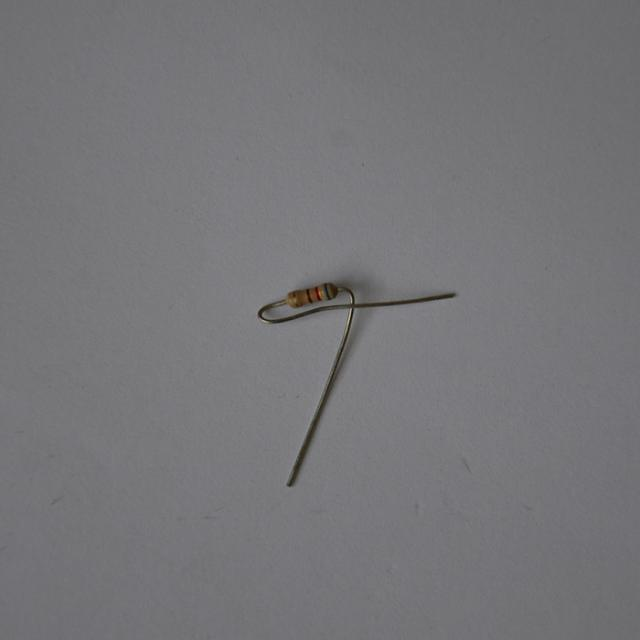blue: (323, 283, 330, 298)
brown: (305, 287, 312, 303)
gold: (291, 291, 298, 306)
red: (314, 285, 321, 300)
resistor: (280, 272, 344, 319)
